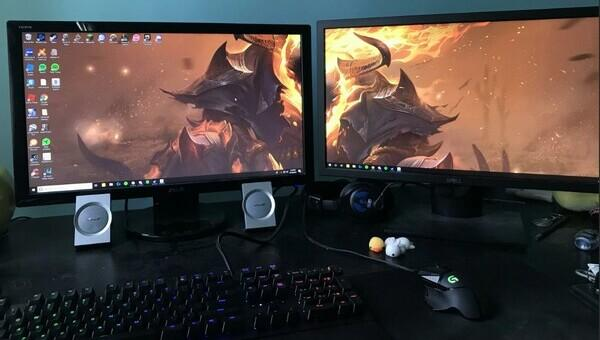monitor: (6, 18, 315, 242), (319, 18, 600, 232)
